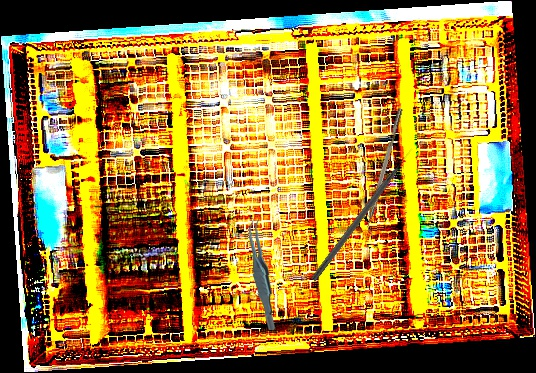Chopper: (362, 108, 409, 237)
Hook Surgical: (310, 146, 416, 283)
Tissue Forceps: (242, 218, 282, 331)
